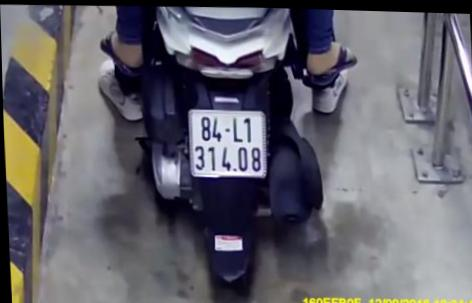LP: (185, 104, 267, 178)
